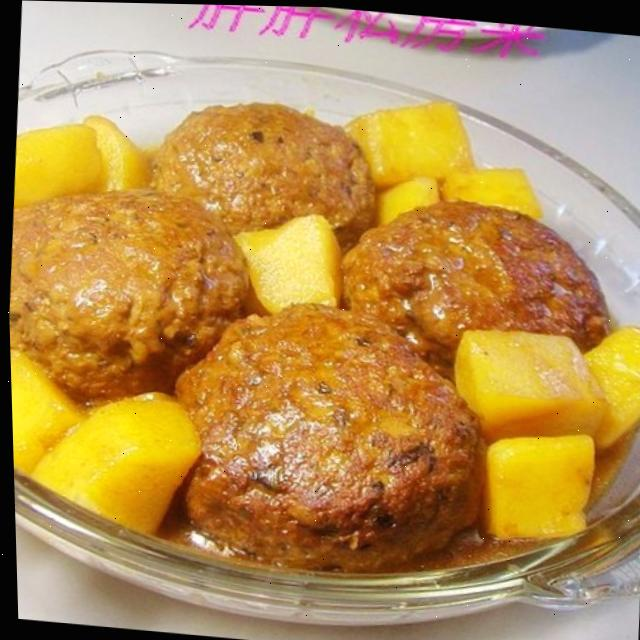猪肉菜式: (0, 9, 640, 623)
